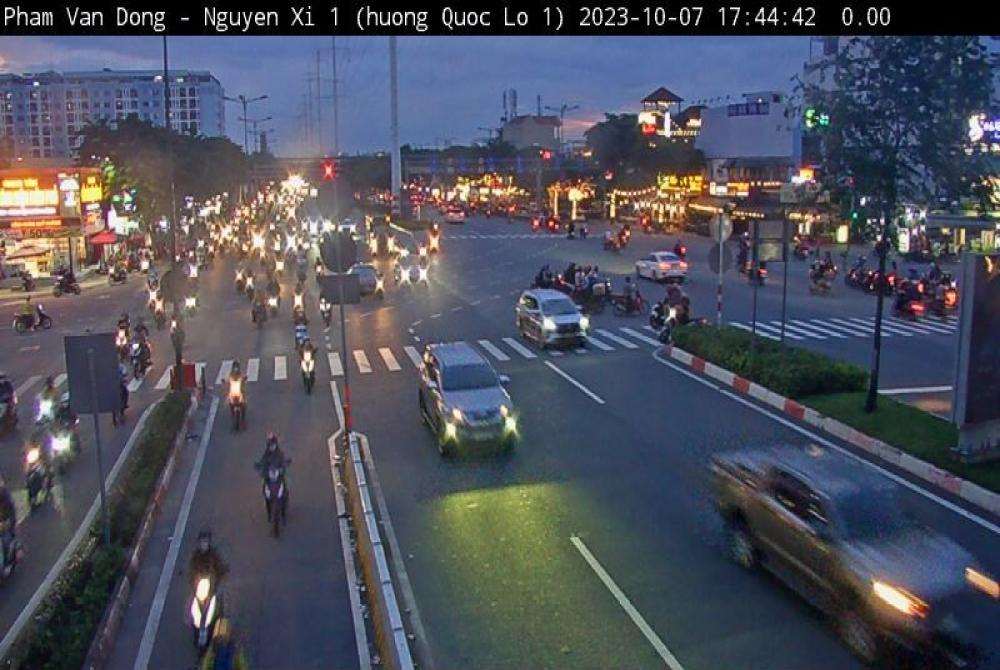car: (700, 424, 995, 658), (413, 323, 521, 458), (519, 285, 596, 350), (630, 243, 690, 285)
